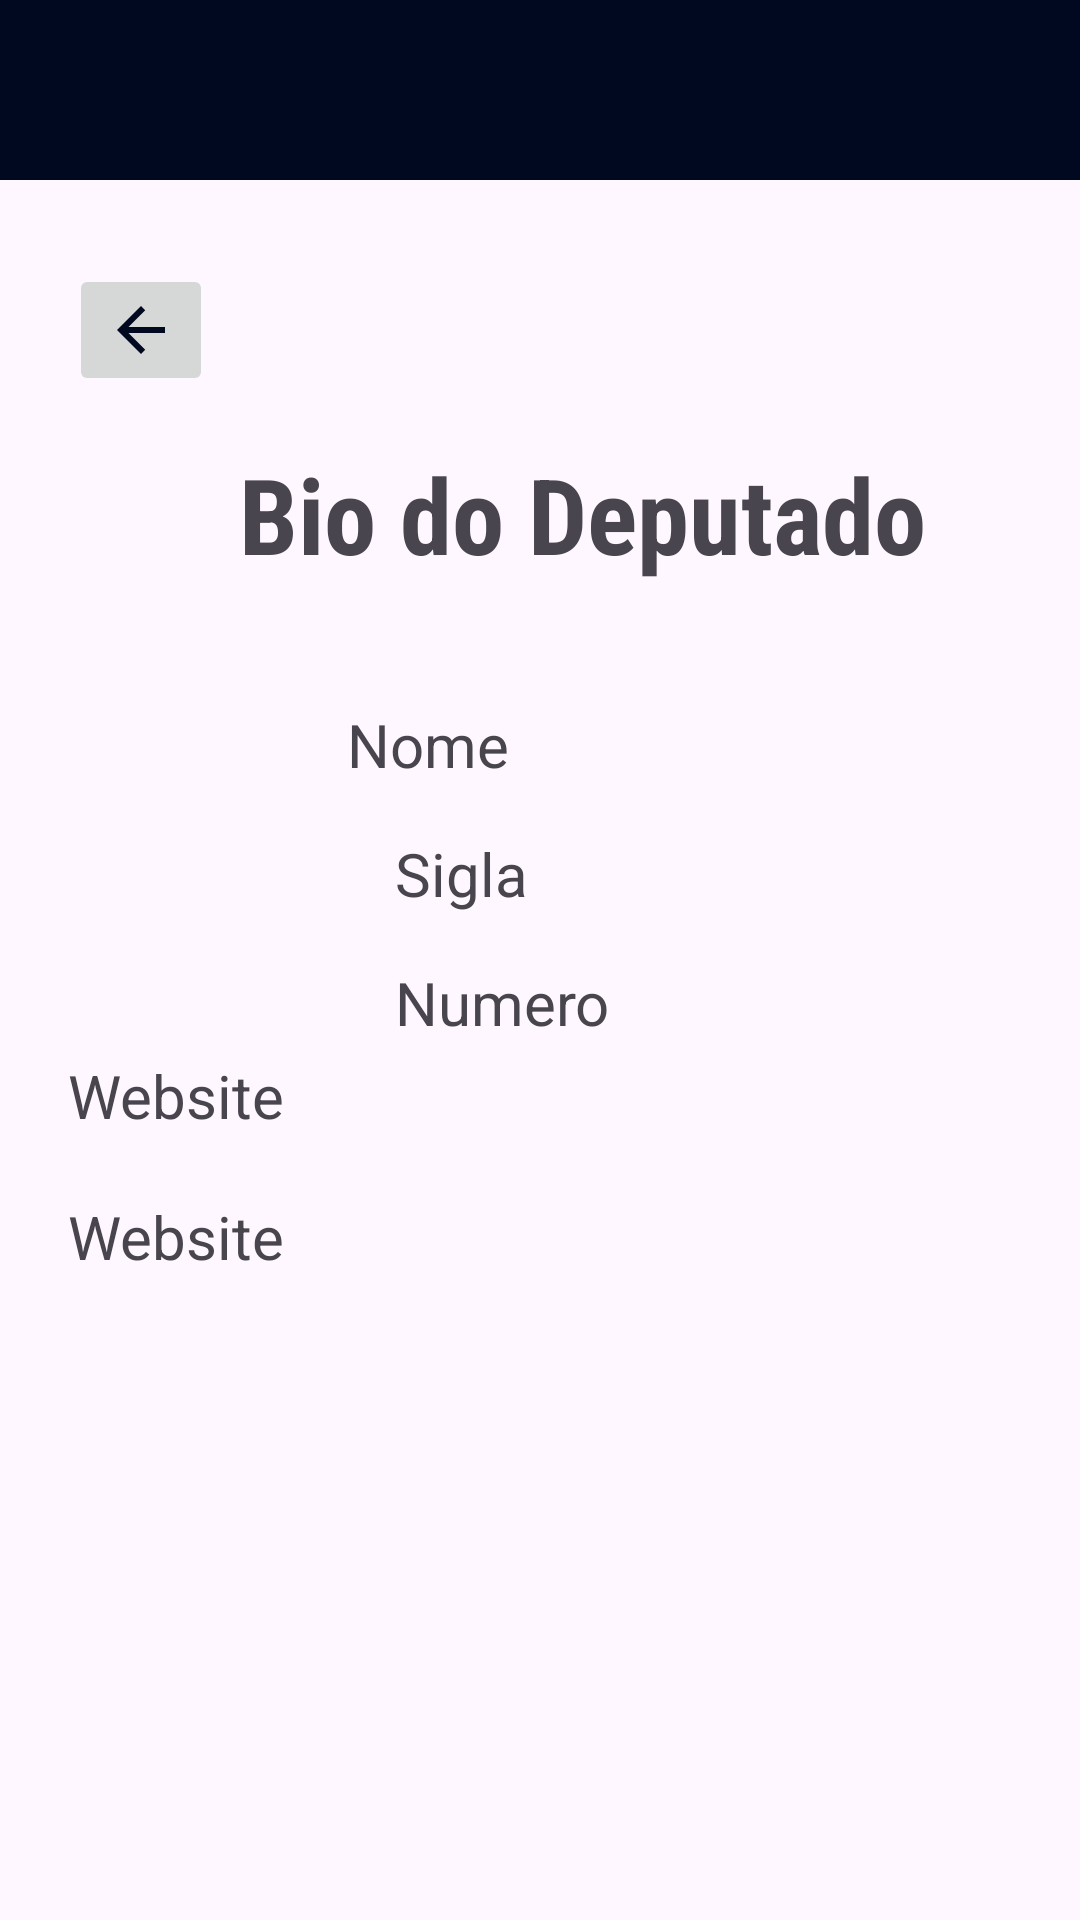

Point at icon controls on the screen. Image size 1080*1920, points as point (x, y).
arrow back: point (141, 330)
